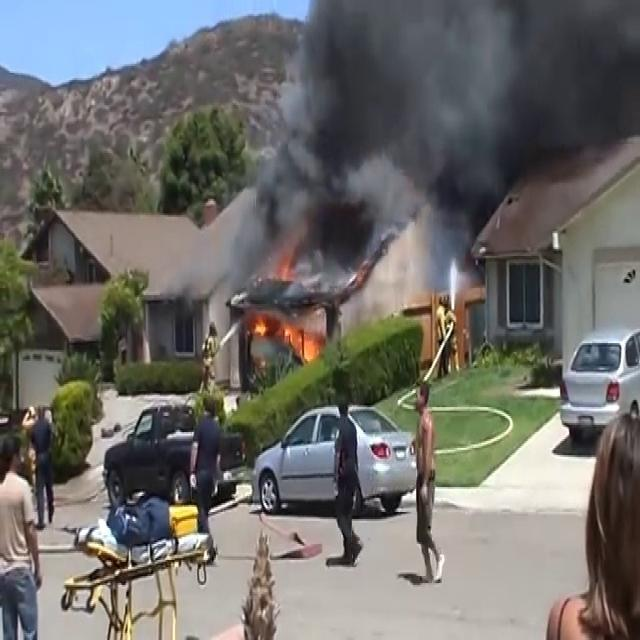Fire: (247, 303, 321, 364)
Smoke: (220, 1, 487, 289), (472, 0, 640, 174)
